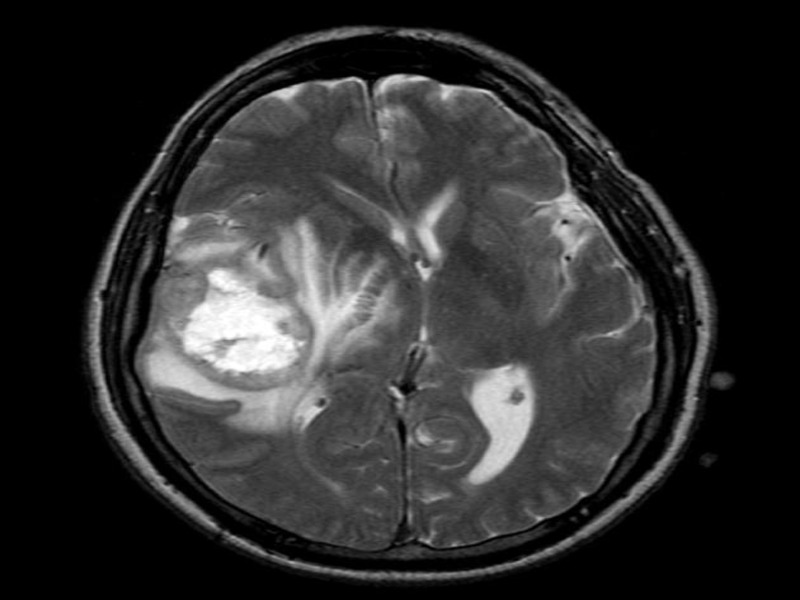tumor: (170, 267, 334, 391)
